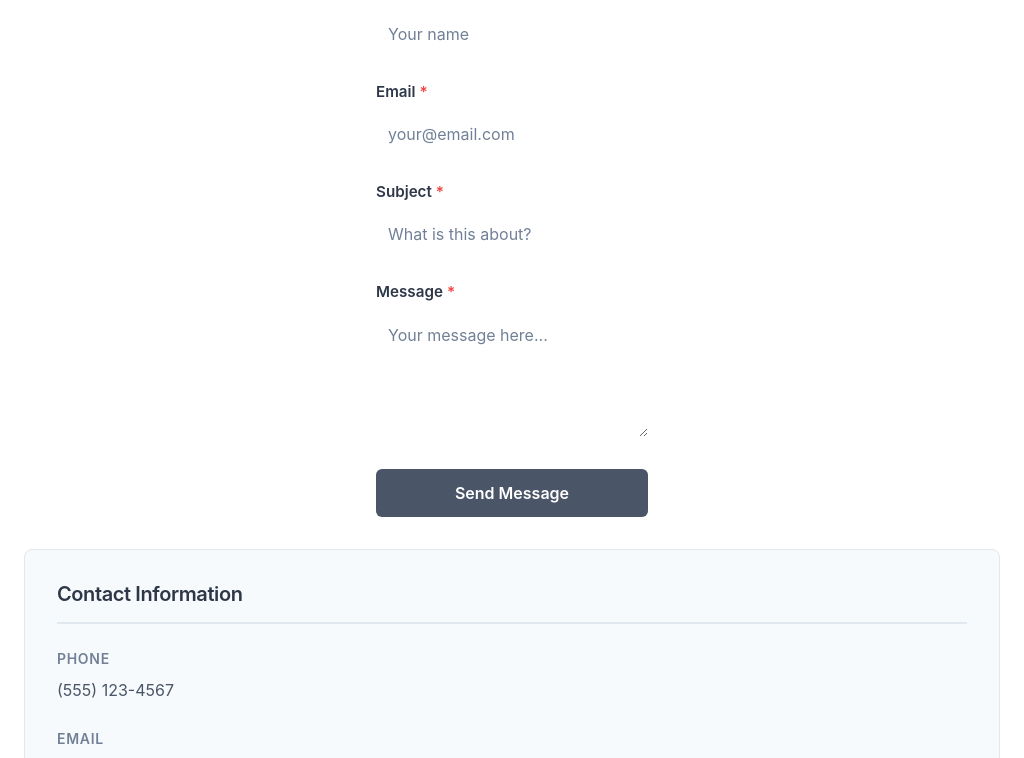
Scenario: Contact Page › Form Validation - Field Length Requirements › should show error for message less than 10 characters
(page scrolled)
Type "Short" into the text box labelled "Message *". click: (512, 375)
box: [376,313,648,437]
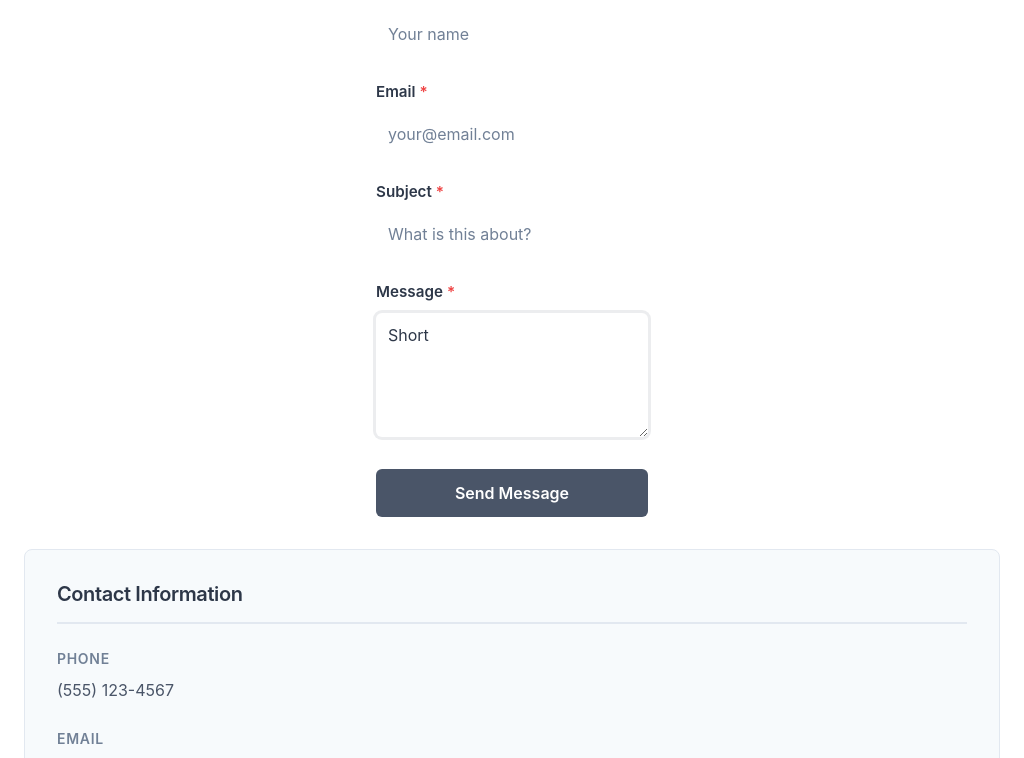
Press Tab
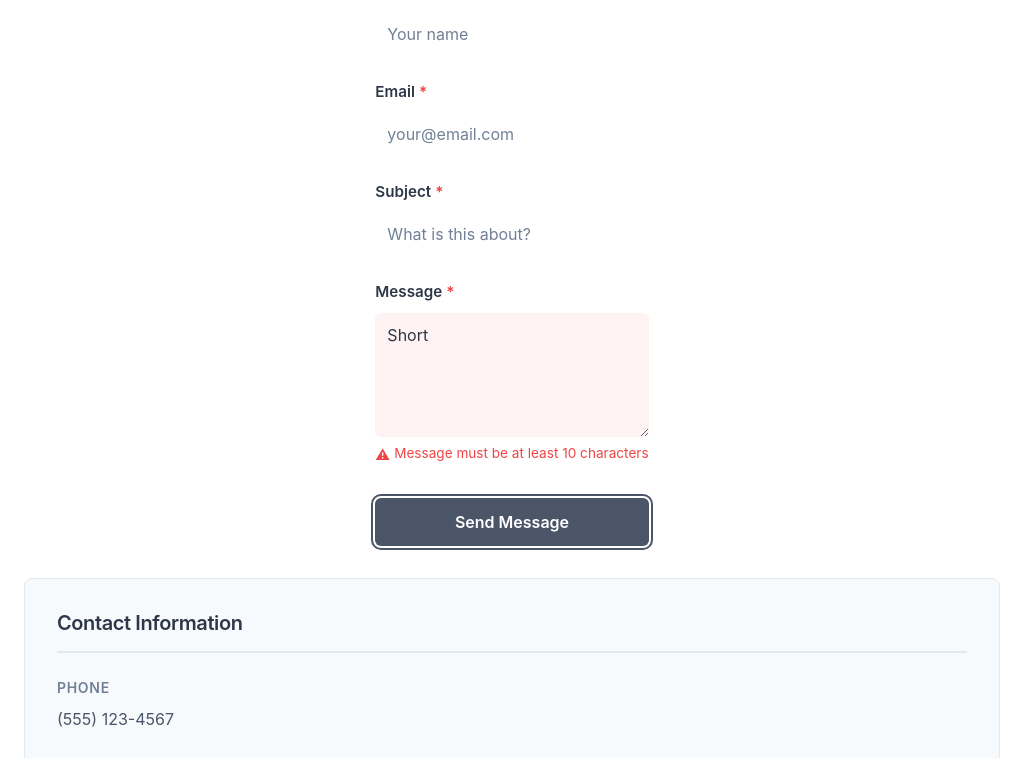
Check: the text "Message must be at least 10 characters" is shown, box [375,443,649,466]
